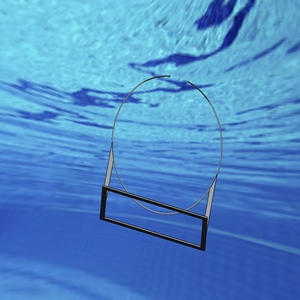circle: (99, 75, 227, 252)
